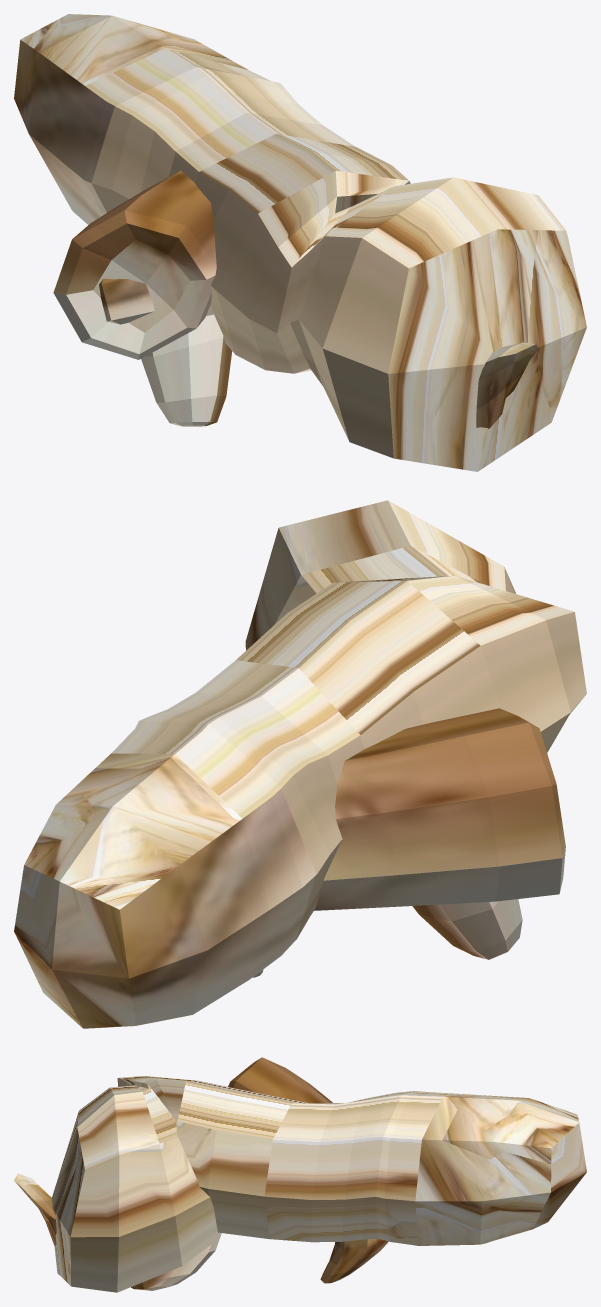
File: kha.fbx
The picture shows the model from 3 angles, top to bottom: view 1: azimuth 30°, elevation 25°; view 2: azimuth 150°, elevation 25°; view 3: azimuth 270°, elevation 25°; orthographic projection. The views are drawn at different scales.
Visible parts, largest first — view 1: Cube; view 2: Cube; view 3: Cube.
Part boxes in pixels (x1,y1,x2,y2): Cube: (14, 14, 586, 471); Cube: (14, 500, 586, 1028); Cube: (14, 1057, 586, 1292).
Bounding box in the file's own units: 207 × 143 × 375.
1 material, 1 textured.
